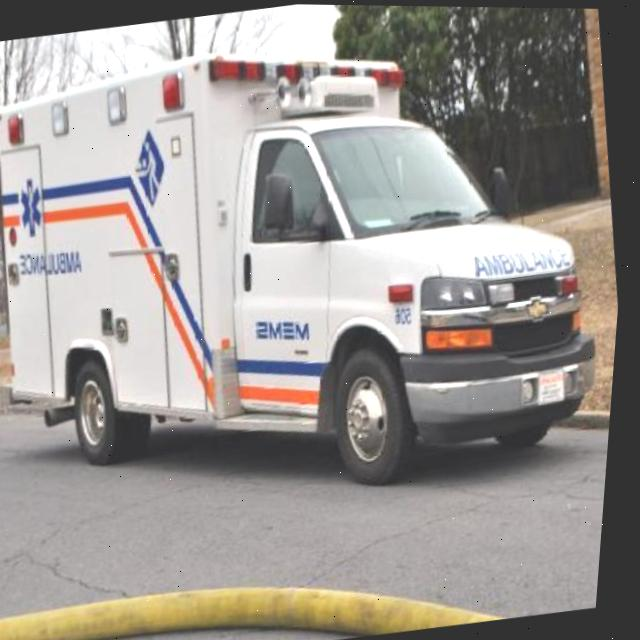emergency: (0, 0, 636, 536)
